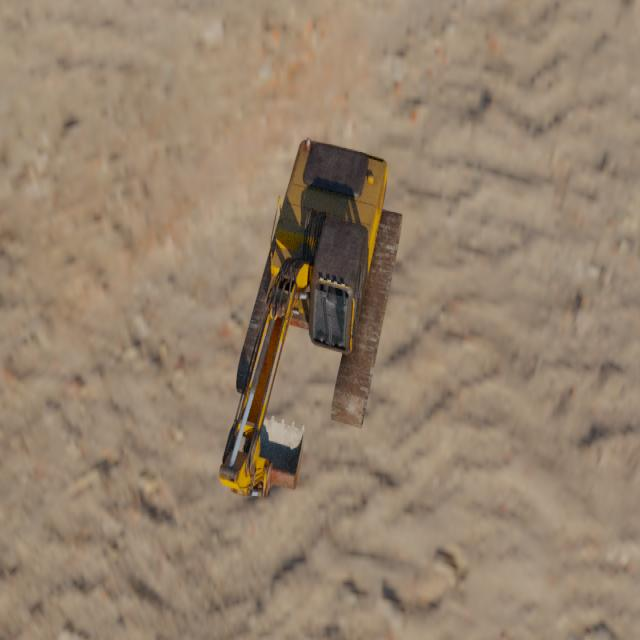excavator: (218, 136, 403, 499)
